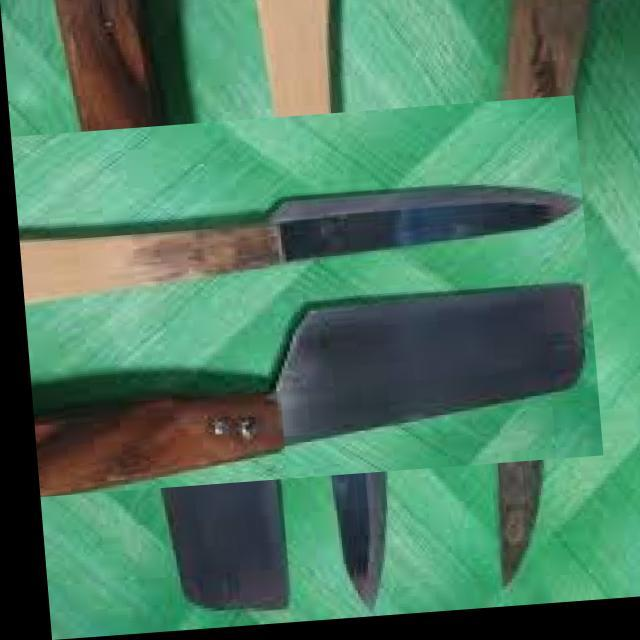knife: (34, 281, 586, 499), (23, 185, 581, 302)
